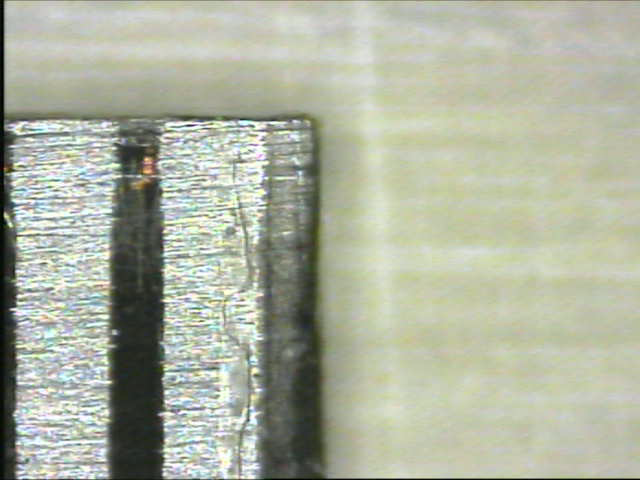edge: (256, 113, 329, 478)
